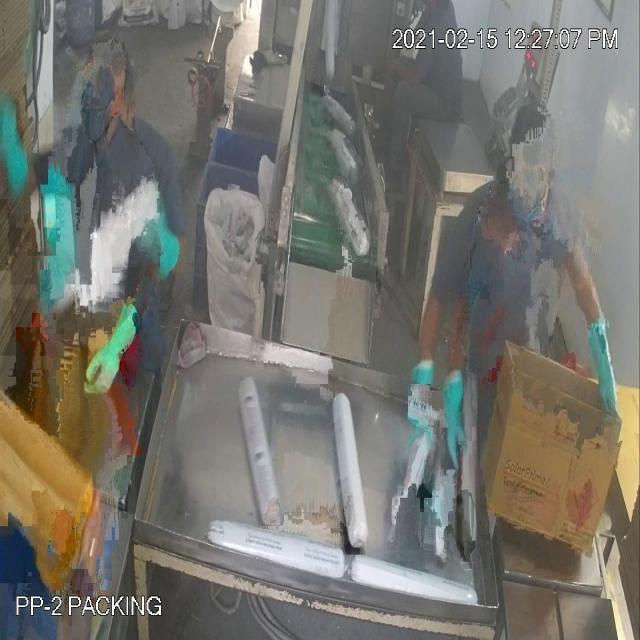Gloves: (24, 50, 605, 418)
